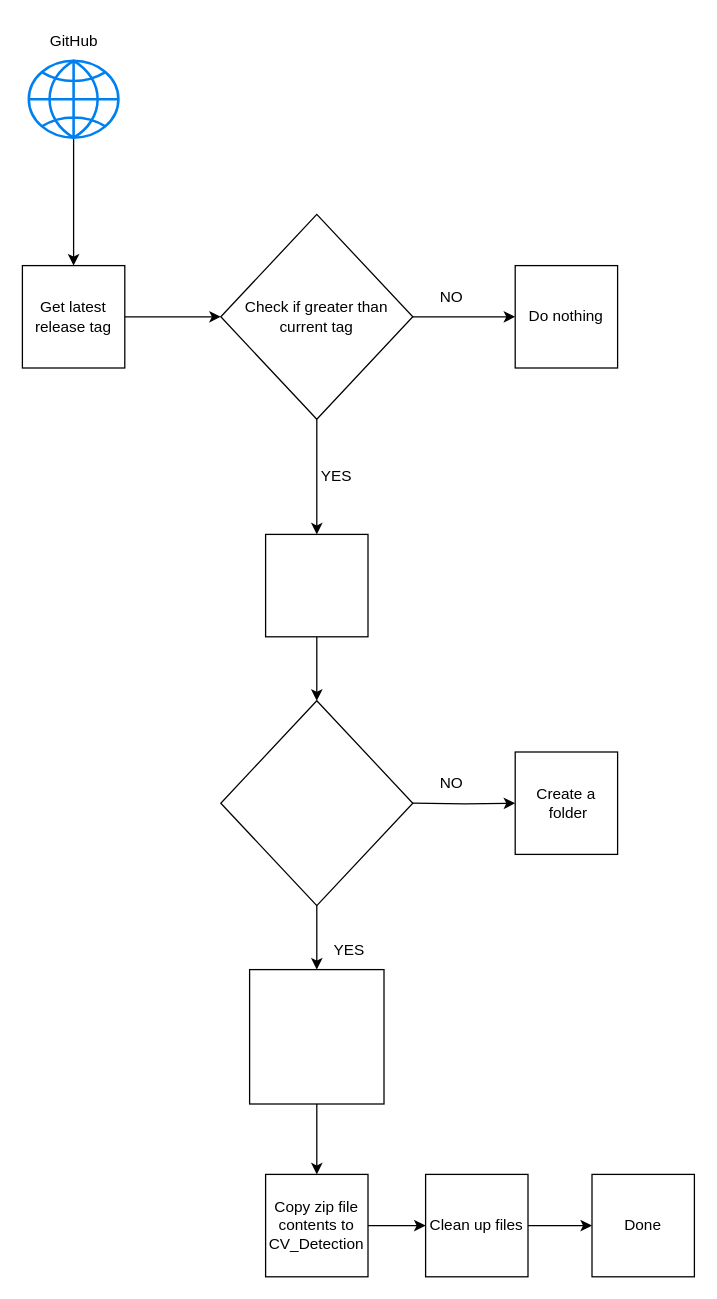
Image size: 717x1299. Some labels were removed from this diagram. The shapes that lost their labels are listed below. From the top down, each one's centre as x and y in pixels, then its label:
the point at 316,585: Download latest release zip
the point at 316,803: Check if CV_Detection already exists
the point at 316,1036: Copy existing files to CV_Detection_old
